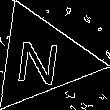N_N: (17, 32, 66, 86)
